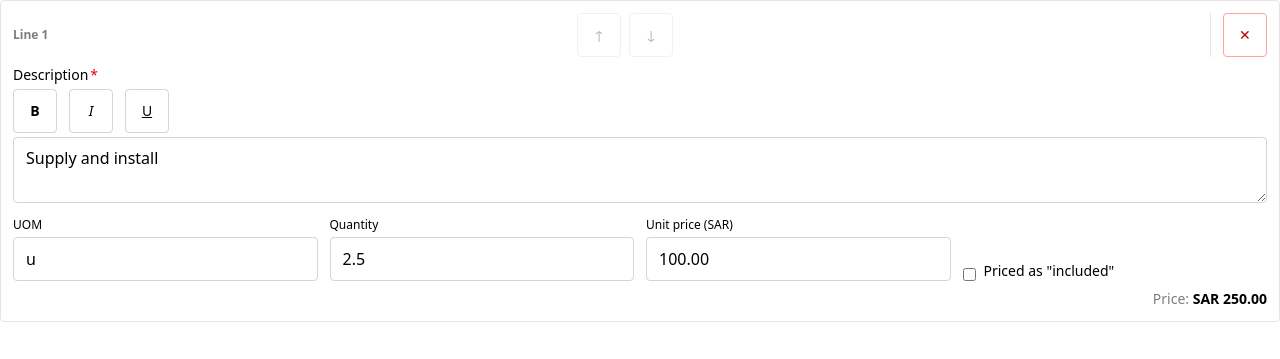
Scenario: LineItemEditor commit rules (AC-10) › rejects an unparseable quantity: no commit, inline alert, last valid value stays
The width and height of the screenshot is (1280, 359).
Replace the text in the field labelled "Quantity" with "1.5.5": [482, 259] box [330,237,634,281]
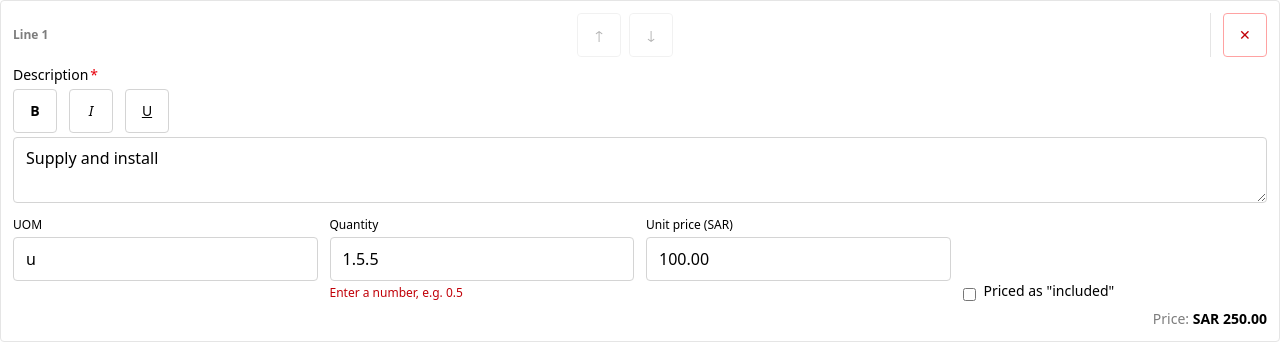
Result: the message shows "Enter a number" at [330,284,463,301]
